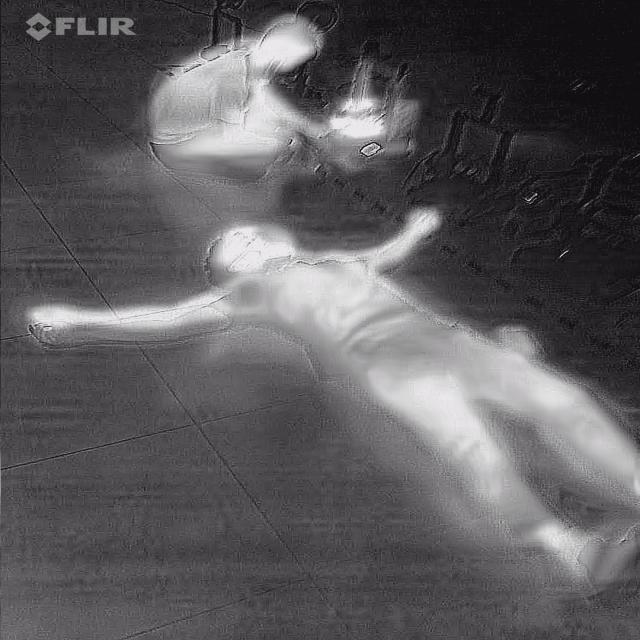Victim: (23, 204, 636, 610), (136, 13, 334, 183)
